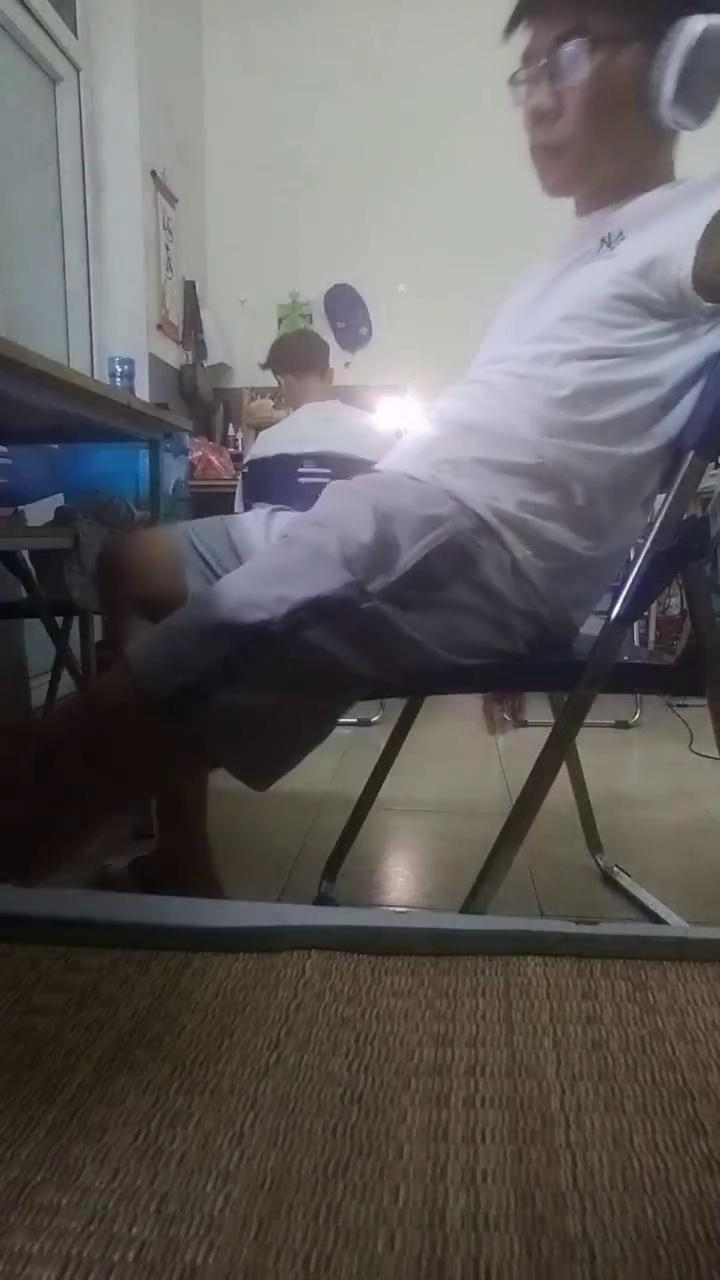BadPosture: (0, 0, 719, 896)
